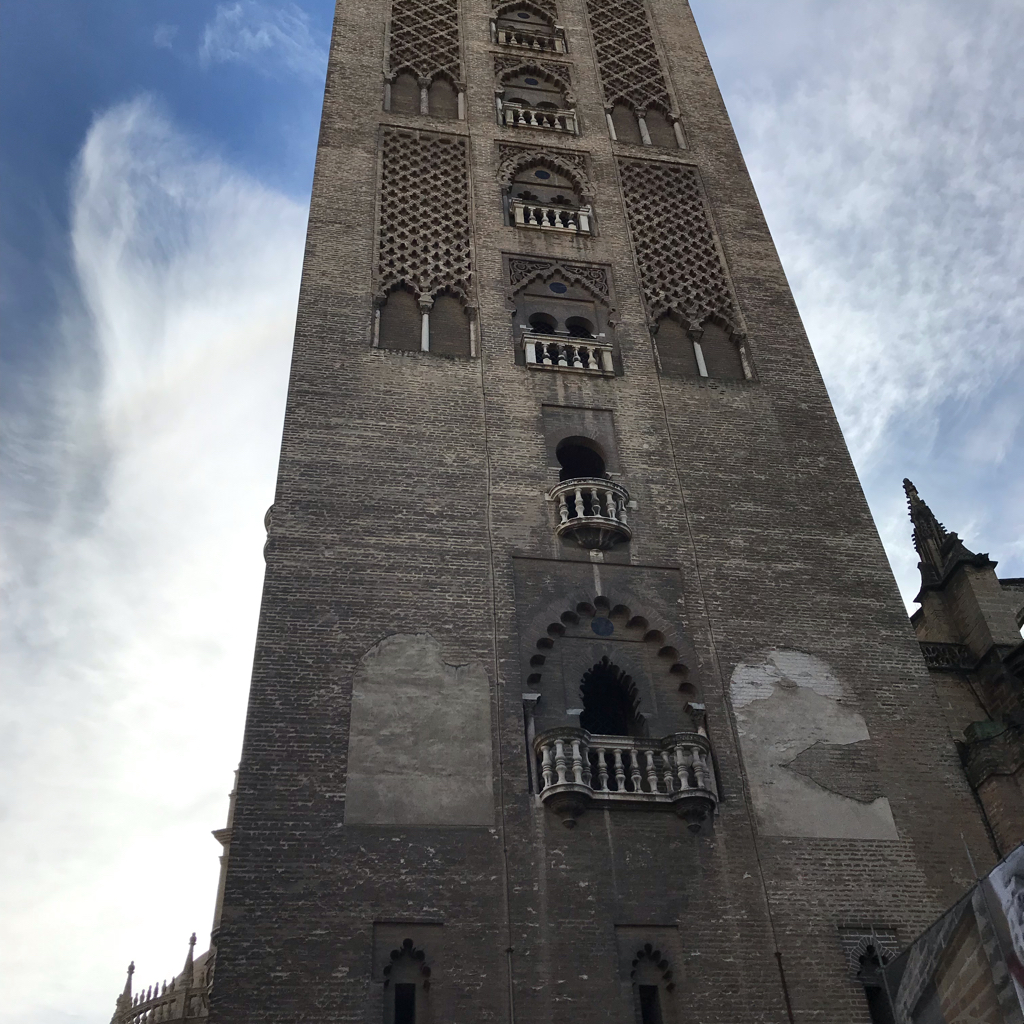arco-herradura: (552, 431, 617, 481)
arco-lobulado: (517, 590, 703, 718), (378, 934, 436, 993), (627, 939, 680, 994)
